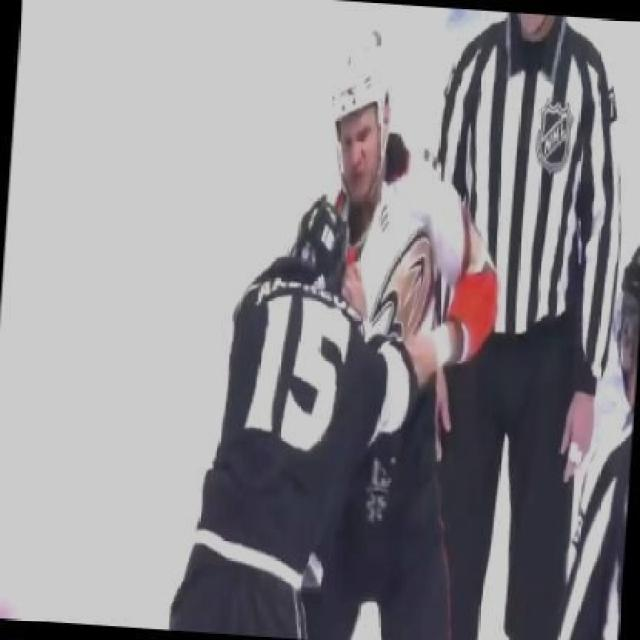fight: (164, 57, 500, 638)
non-fight: (430, 3, 619, 637)
